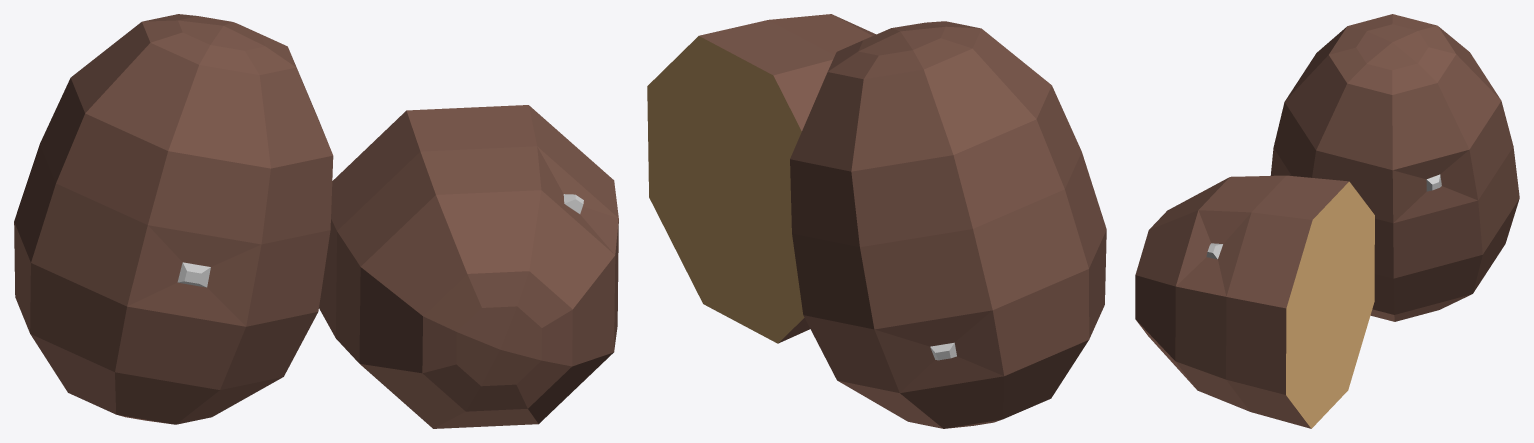
The model's file is Potato_02.obj.
3 views of the same model, side by side, from view 1: azimuth 30°, elevation 25°; view 2: azimuth 150°, elevation 25°; view 3: azimuth 270°, elevation 25° (orthographic). The views are drawn at different scales.
Visible parts, largest first — view 1: Potato_Circle.021; view 2: Potato_Circle.021; view 3: Potato_Circle.021.
Boxes of the visible parts, x1,y1,x2,y2 form: Potato_Circle.021: (14,14,618,428); Potato_Circle.021: (647,14,1106,428); Potato_Circle.021: (1135,14,1519,428).
Bounding box in the file's own units: 14.57 × 10.19 × 12.09.
